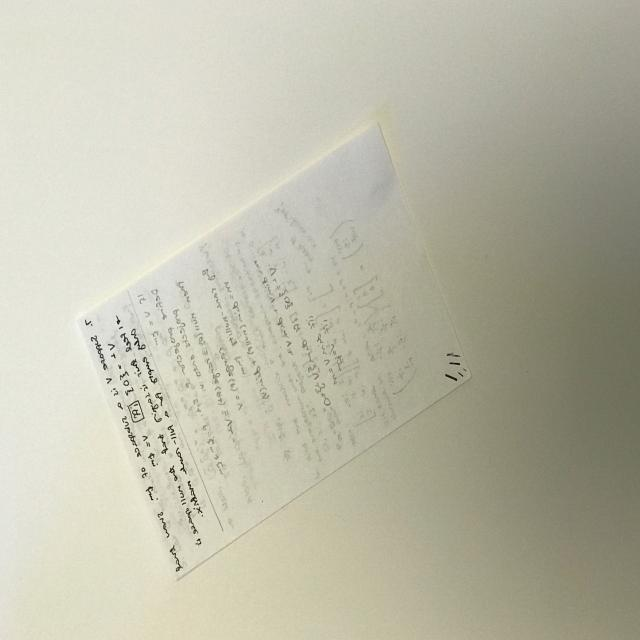paper: (60, 78, 478, 571)
